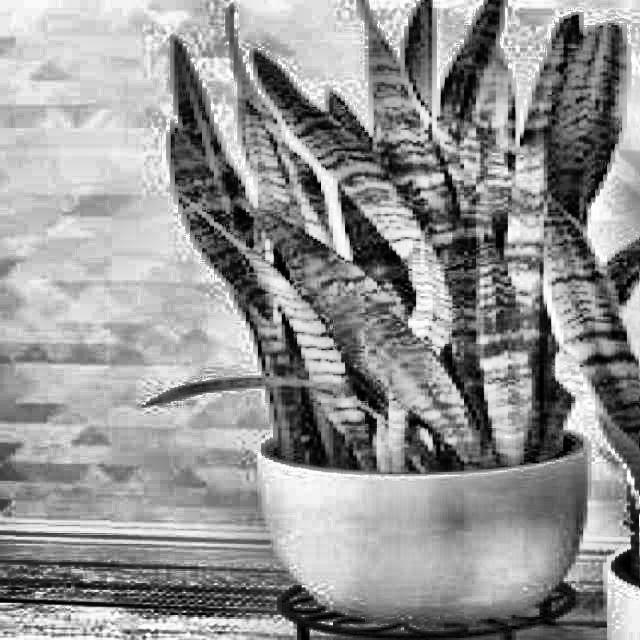plants: (156, 25, 640, 442)
